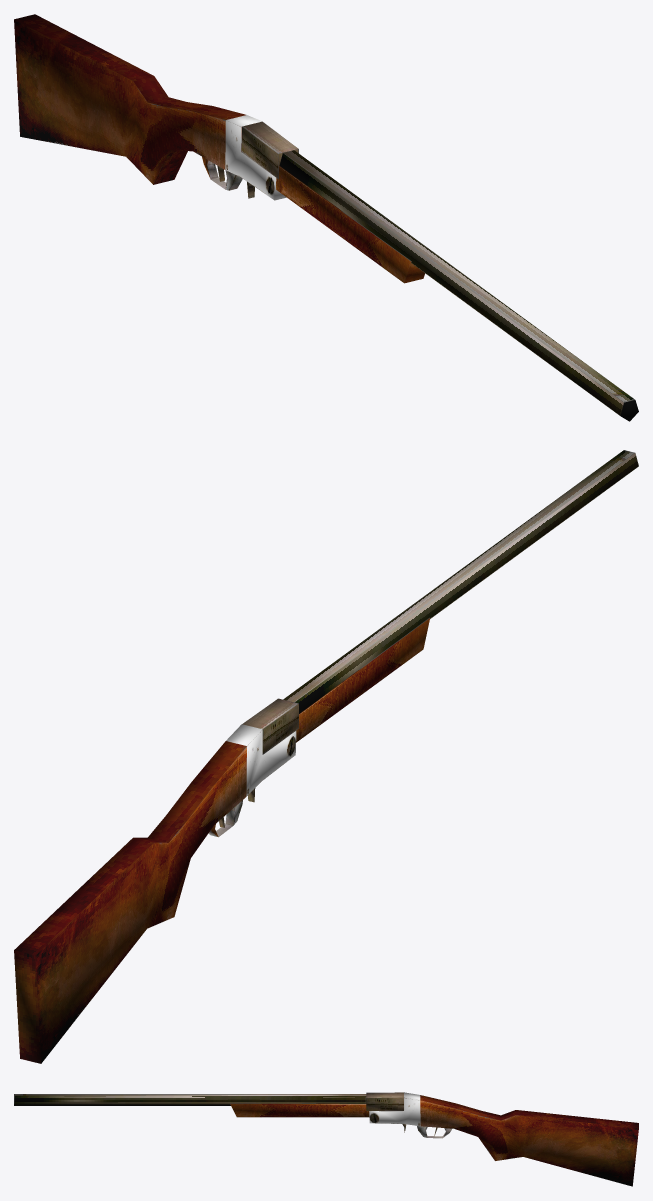
Rendered from shotgun.glb.
The picture shows the model from 3 angles, top to bottom: view 1: azimuth 30°, elevation 25°; view 2: azimuth 150°, elevation 25°; view 3: azimuth 270°, elevation 25°; orthographic projection. The views are drawn at different scales.
Parts seen in each view (by area): view 1: Shotgun; view 2: Shotgun; view 3: Shotgun.
Part boxes in pixels (x1,y1,x2,y2): Shotgun: [14, 14, 638, 421]; Shotgun: [14, 450, 638, 1063]; Shotgun: [14, 1092, 638, 1186].
Bounding box in the file's own units: 0.0976 × 0.7607 × 4.84.
1 material, 1 textured.
